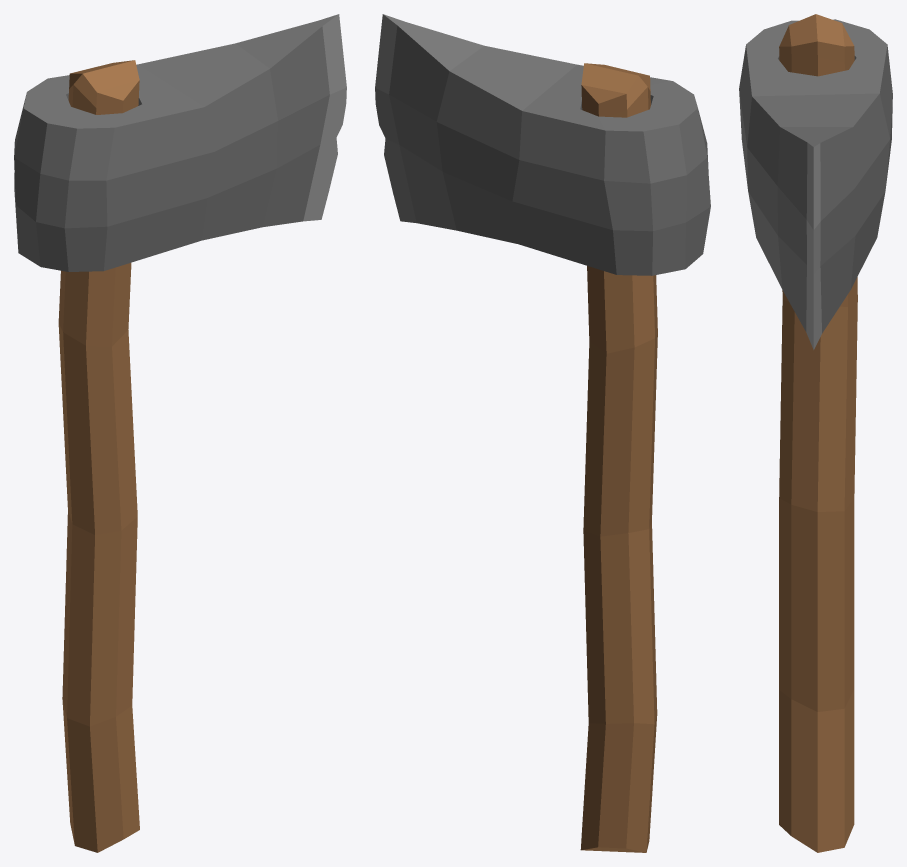
File: axe.fbx
3 views of the same model, side by side, from view 1: azimuth 30°, elevation 25°; view 2: azimuth 150°, elevation 25°; view 3: azimuth 270°, elevation 25° (orthographic). The views are drawn at different scales.
Parts seen in each view (by area): view 1: Axe; view 2: Axe; view 3: Axe.
Boxes of the visible parts, x1,y1,x2,y2 form: Axe: [14, 14, 346, 852]; Axe: [375, 14, 710, 852]; Axe: [739, 14, 892, 852].
Size of the model in its own units: 94.44 by 216 by 37.08.
